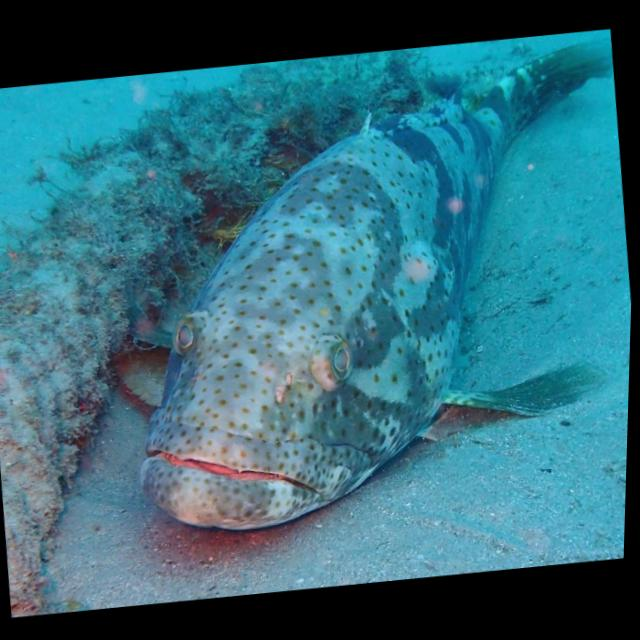Groupers: (96, 32, 639, 539)
